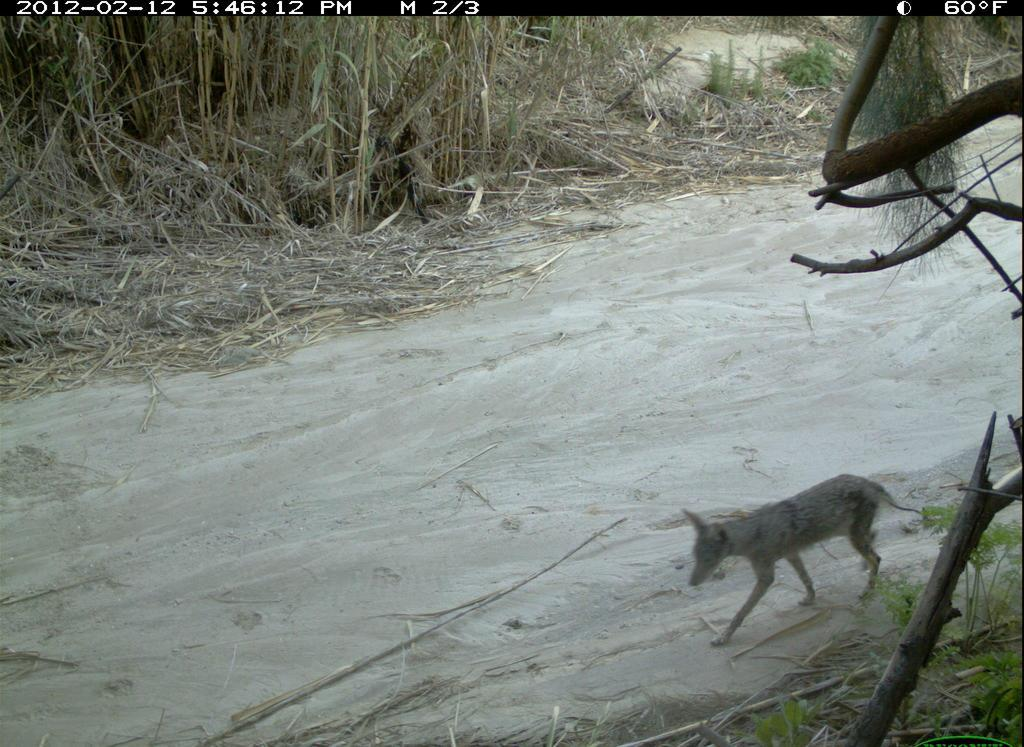coyote: (656, 465, 914, 653)
